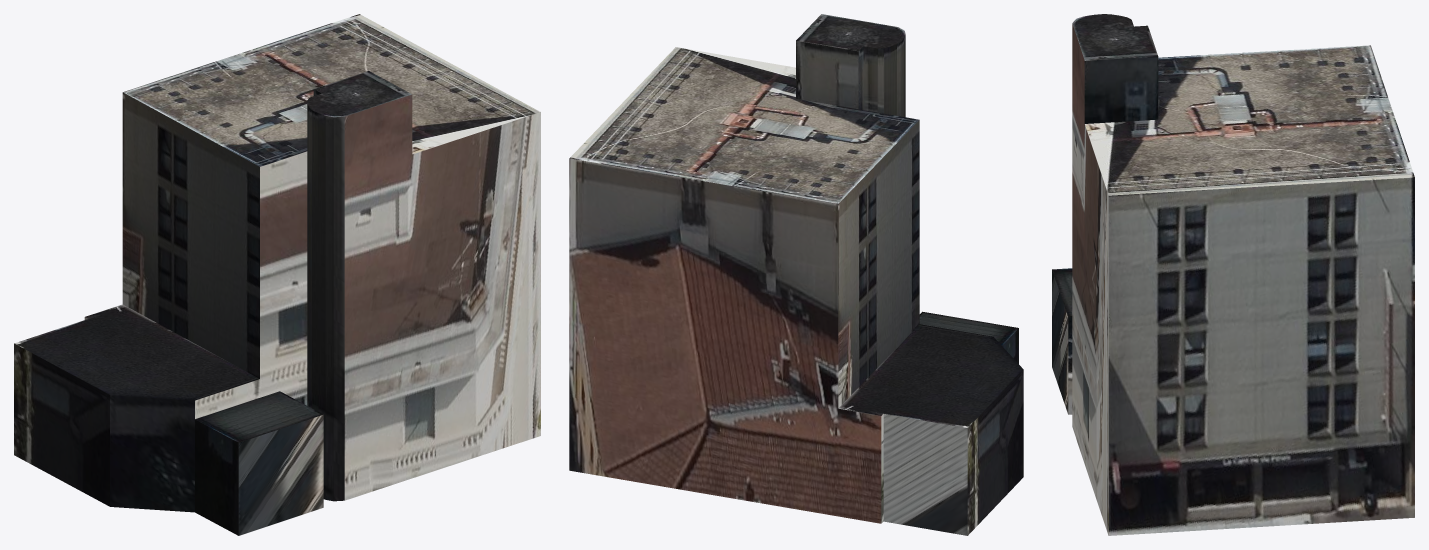
The picture shows the model from 3 angles, left to right: view 1: azimuth 30°, elevation 25°; view 2: azimuth 150°, elevation 25°; view 3: azimuth 270°, elevation 25°; orthographic projection. The views are drawn at different scales.
Parts seen in each view (by area): view 1: Z_UP; view 2: Z_UP; view 3: Z_UP.
Boxes of the visible parts, x1,y1,x2,y2 form: Z_UP: [14, 14, 540, 535]; Z_UP: [569, 14, 1023, 535]; Z_UP: [1052, 14, 1414, 535].
Size of the model in its own units: 19.49 by 17.24 by 14.06.
2 materials, 1 textured.
